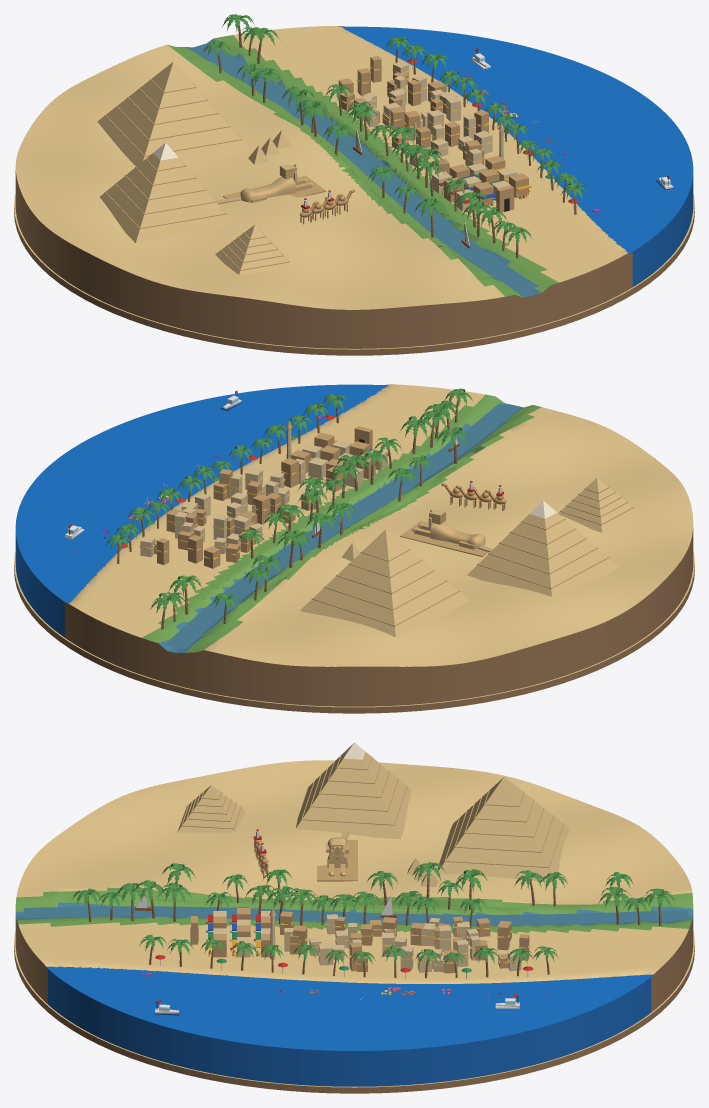
File: cairo.glb
3 views of the same model, one above another, from view 1: azimuth 30°, elevation 25°; view 2: azimuth 150°, elevation 25°; view 3: azimuth 270°, elevation 25° (orthographic).
Parts seen in each view (by area): view 1: DECO-land, DECO-red-sea-surface, DECO-rim, DECO-palms, khufu-body, DECO-cairo-city, khafre-body, DECO-nile, DECO-base, menkaure-body, sphinx-body; view 2: DECO-land, DECO-red-sea-surface, DECO-rim, DECO-palms, khufu-body, DECO-cairo-city, khafre-body, DECO-nile, DECO-base, menkaure-body, sphinx-body, sphinx-enclosure; view 3: DECO-land, DECO-red-sea-surface, DECO-rim, DECO-palms, khufu-body, DECO-cairo-city, khafre-body, DECO-nile, DECO-base, menkaure-body, sphinx-enclosure.
Part boxes in pixels (x1,y1,x2,y2): DECO-land: [15, 26, 628, 309]; DECO-red-sea-surface: [342, 26, 693, 253]; DECO-rim: [15, 26, 693, 348]; DECO-palms: [202, 14, 588, 258]; khufu-body: [97, 61, 250, 166]; DECO-cairo-city: [338, 56, 492, 174]; khafre-body: [100, 153, 233, 243]; DECO-nile: [191, 42, 538, 291]; DECO-base: [14, 114, 694, 355]; menkaure-body: [215, 225, 293, 274]; sphinx-body: [240, 177, 295, 202]; DECO-land: [68, 384, 693, 666]; DECO-red-sea-surface: [15, 384, 387, 604]; DECO-rim: [15, 384, 693, 706]; DECO-palms: [106, 388, 473, 629]; khufu-body: [300, 529, 470, 637]; DECO-cairo-city: [139, 458, 342, 568]; khafre-body: [467, 512, 619, 596]; DECO-nile: [164, 403, 520, 649]; DECO-base: [14, 529, 694, 713]; menkaure-body: [558, 478, 637, 532]; sphinx-body: [430, 522, 485, 548]; sphinx-enclosure: [400, 521, 487, 556]; DECO-land: [15, 760, 693, 983]; DECO-red-sea-surface: [46, 966, 653, 1051]; DECO-rim: [15, 915, 693, 1086]; DECO-palms: [72, 862, 675, 978]; khufu-body: [437, 776, 570, 882]; DECO-cairo-city: [280, 911, 529, 973]; khafre-body: [295, 751, 411, 839]; DECO-nile: [23, 906, 688, 924]; DECO-base: [14, 890, 694, 1093]; menkaure-body: [177, 785, 245, 832]; sphinx-enclosure: [317, 840, 357, 881].
Bounding box in the file's own units: 2 × 0.3933 × 2.
